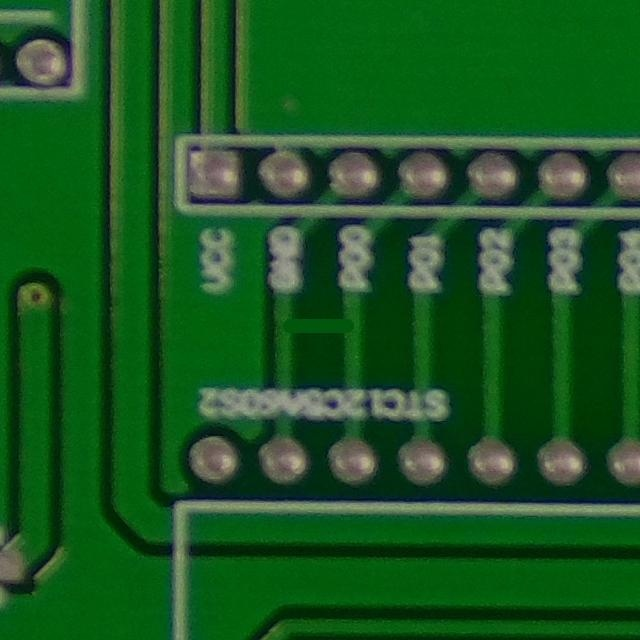short: (266, 275, 374, 365)
